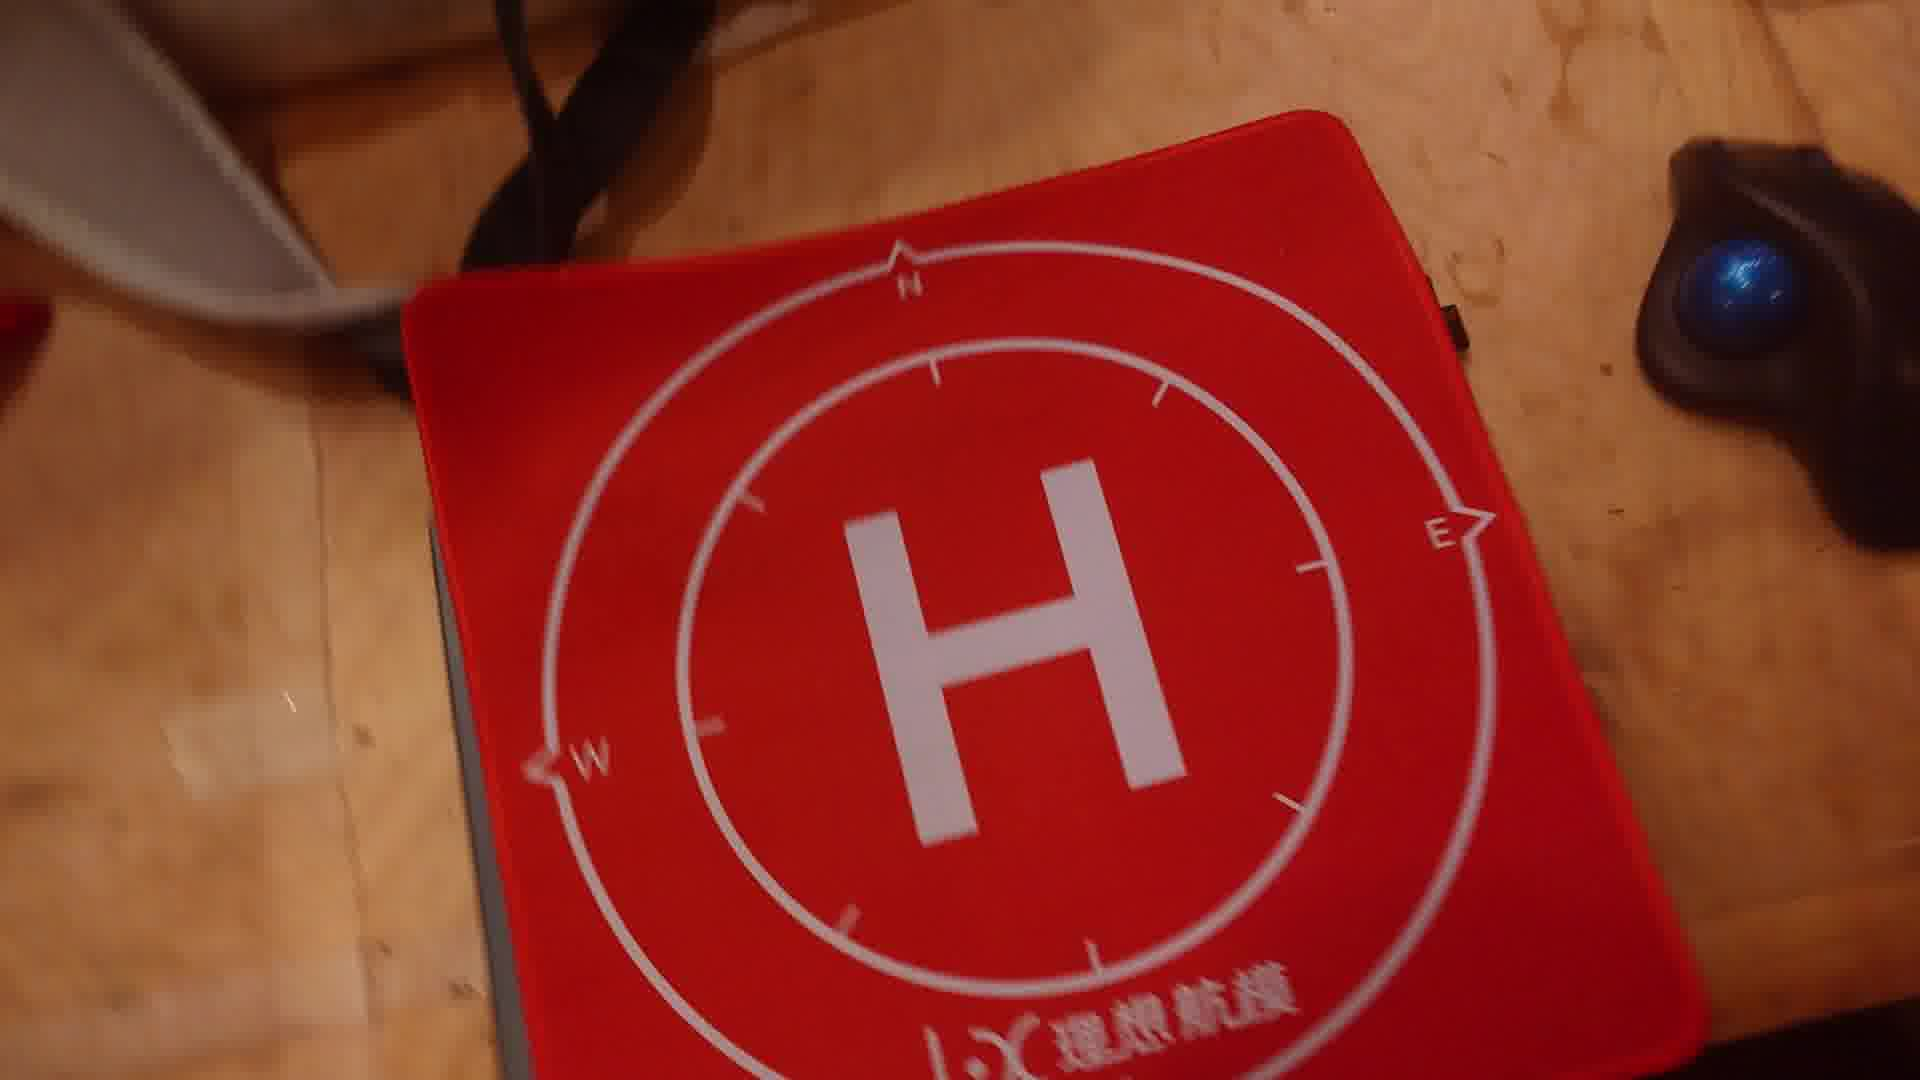H: (839, 456, 1189, 851)
